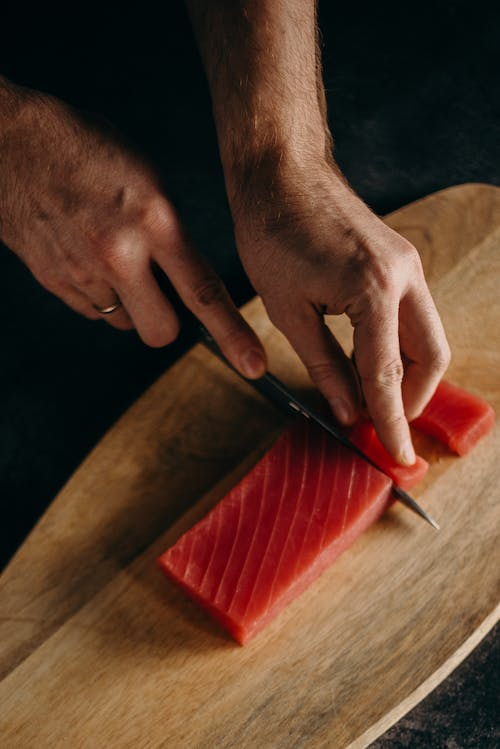knife: (176, 303, 441, 533)
